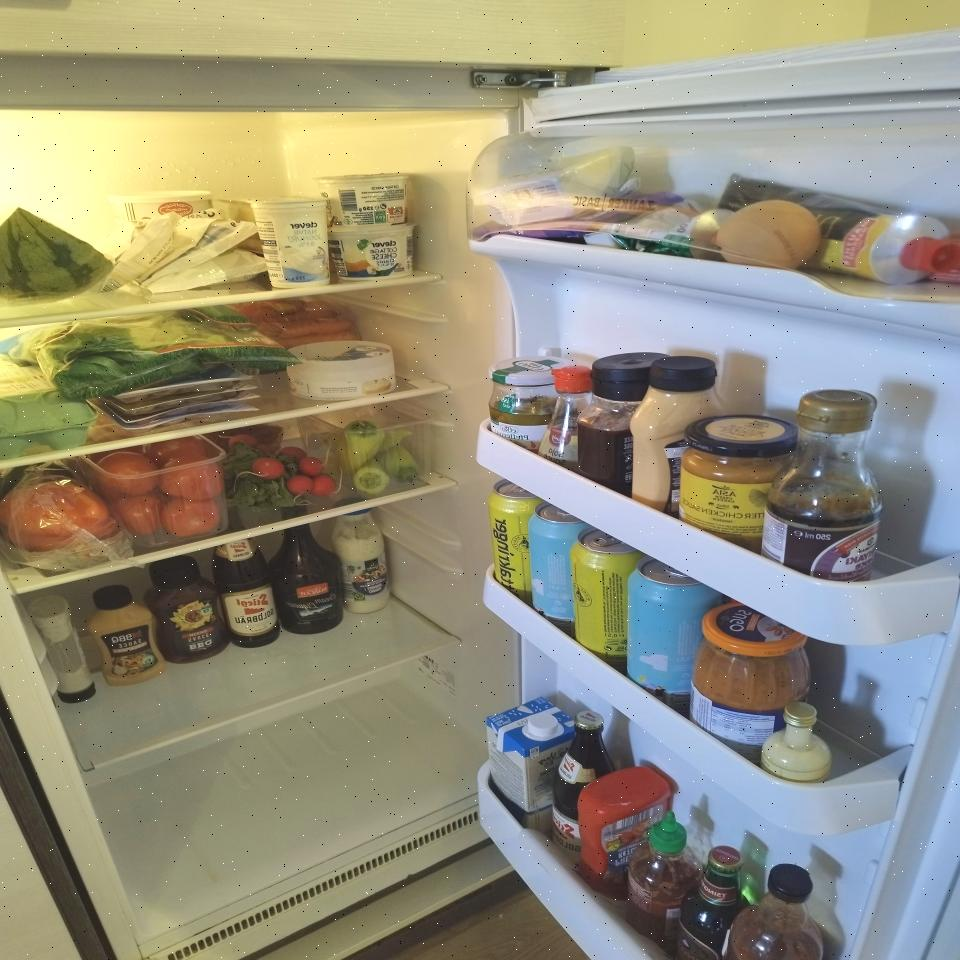Huevos: (0, 354, 98, 459), (718, 200, 818, 266)
Tomate: (160, 457, 222, 499), (95, 453, 156, 495), (161, 499, 219, 537), (116, 496, 158, 535), (142, 436, 204, 461)
Yogur: (253, 198, 327, 288)
Zanahoria: (234, 298, 360, 348)
bell pepper: (0, 482, 118, 552)
